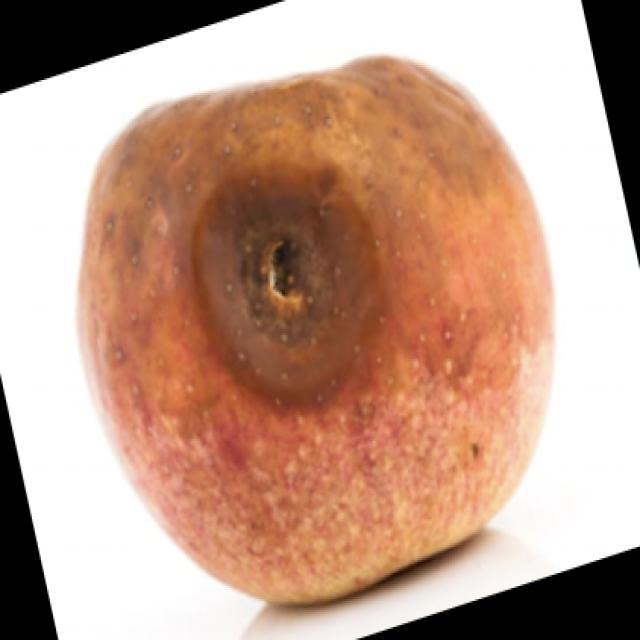Rotten: (79, 56, 554, 596)
